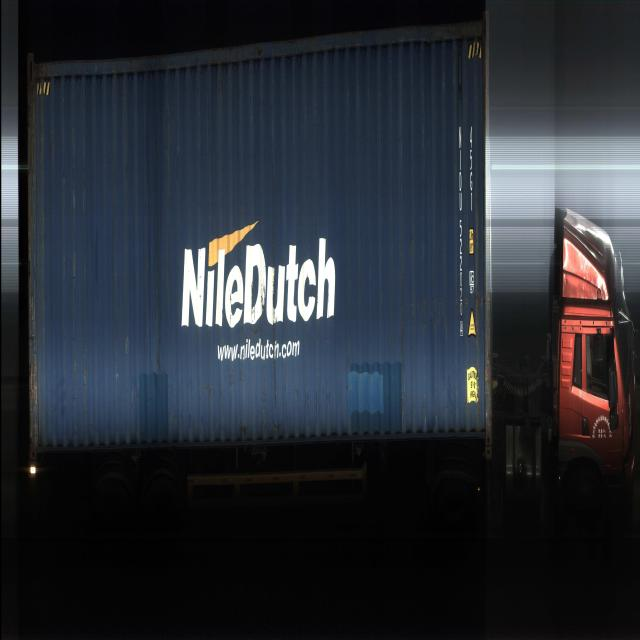rust: (475, 180, 481, 374), (421, 291, 447, 331), (31, 92, 37, 250), (484, 38, 490, 180), (31, 334, 38, 452), (401, 263, 406, 415), (273, 256, 277, 385), (486, 316, 492, 399), (84, 333, 88, 430), (75, 336, 79, 426), (348, 316, 352, 396), (206, 380, 213, 399)
